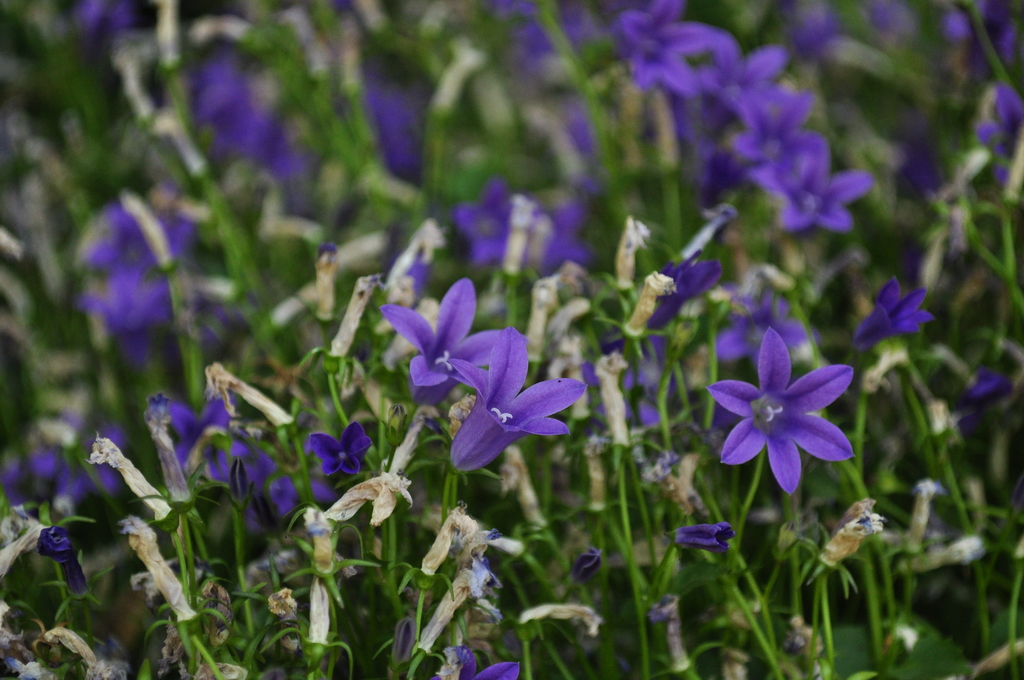person: (73, 177, 209, 436)
